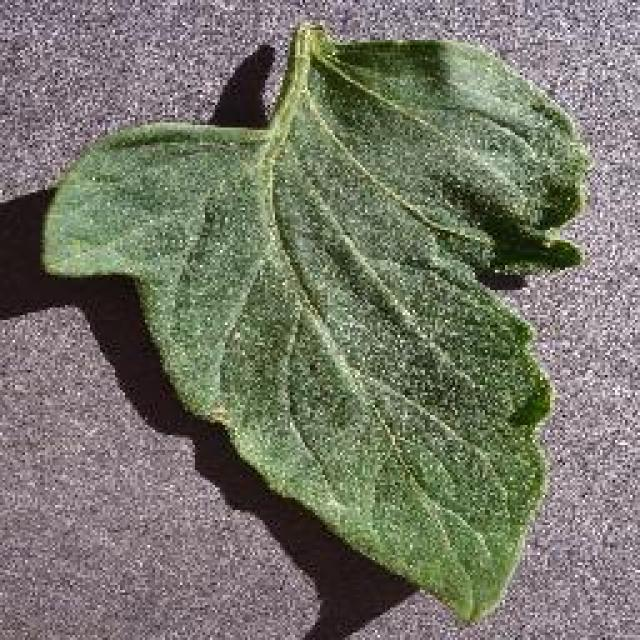healthy: (42, 16, 597, 624)
